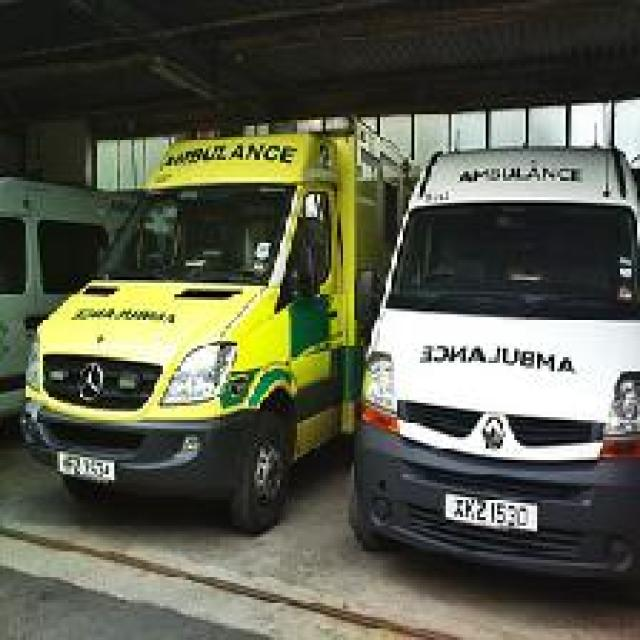Ambulance: (17, 111, 417, 532), (346, 140, 637, 589)
